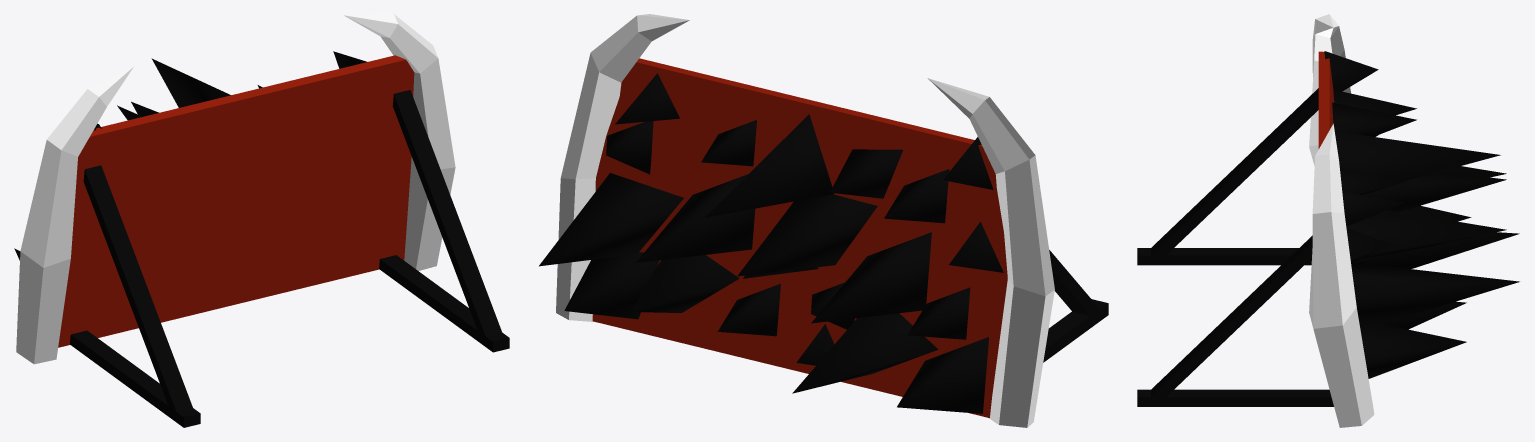
The model's file is railDamage_3.fbx.
The picture shows the model from 3 angles, left to right: view 1: azimuth 30°, elevation 25°; view 2: azimuth 150°, elevation 25°; view 3: azimuth 270°, elevation 25°; orthographic projection. The views are drawn at different scales.
Parts seen in each view (by area): view 1: railDamage_3; view 2: railDamage_3; view 3: railDamage_3.
Part boxes in pixels (box(x1,y1,x2,y2)): railDamage_3: box(14, 14, 509, 427); railDamage_3: box(539, 14, 1108, 427); railDamage_3: box(1137, 14, 1519, 427).
Bounding box in the file's own units: 452 × 375 × 281.
